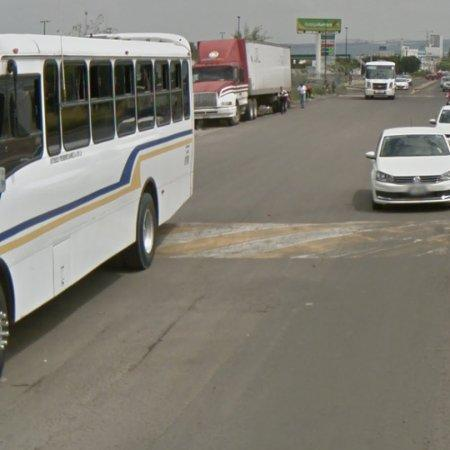buses: (0, 33, 194, 370)
